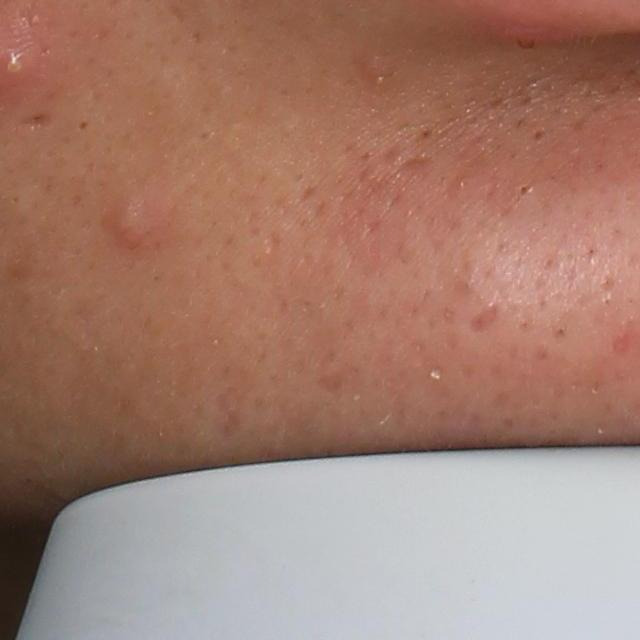atrophic_scar: (467, 300, 502, 337), (20, 111, 54, 129)
comedo: (71, 117, 92, 136), (514, 178, 535, 196), (531, 127, 548, 144)
papule: (92, 198, 165, 247)
